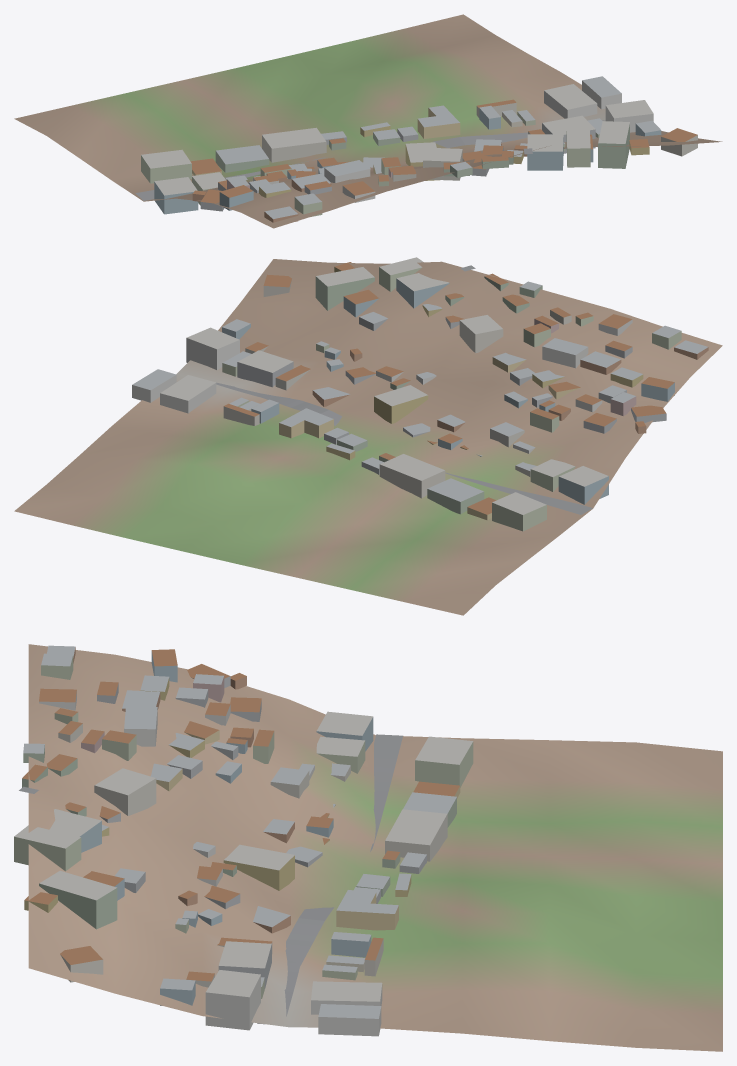
3 renders of one model, top to bottom at view 1: azimuth 30°, elevation 25°; view 2: azimuth 150°, elevation 25°; view 3: azimuth 270°, elevation 25°, orthographic. The views are drawn at different scales.
Visible parts, largest first — view 1: Lo; view 2: Lo; view 3: Lo.
Part boxes in pixels (box(x1,y1,x2,y2)): Lo: box(14, 14, 722, 228); Lo: box(14, 257, 722, 615); Lo: box(14, 644, 722, 1051).
Bounding box in the file's own units: 267 × 54.81 × 261.
